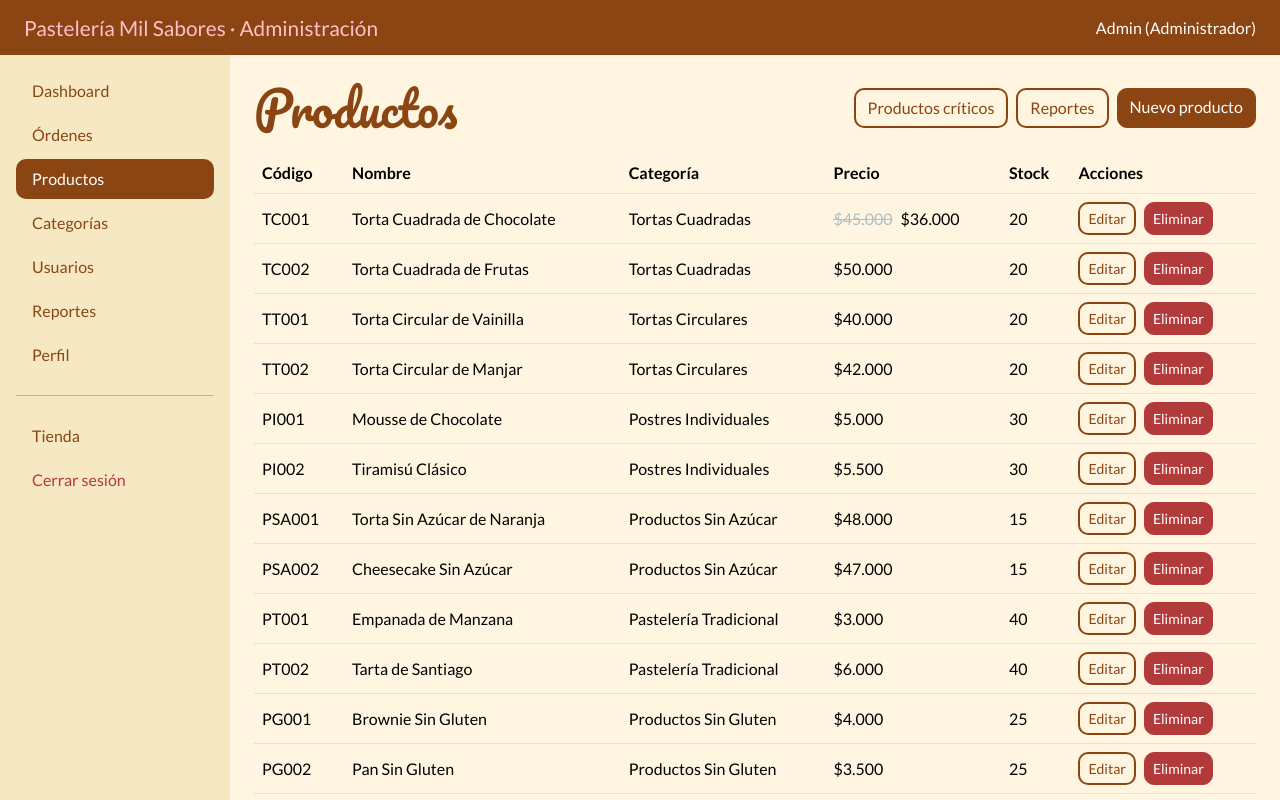
Scenario: Admin: productos › elimina un producto después de confirmar
Step 1. Click the button "Eliminar" in the row of "TC001" → x=1178, y=218, box [1144,202,1213,235]
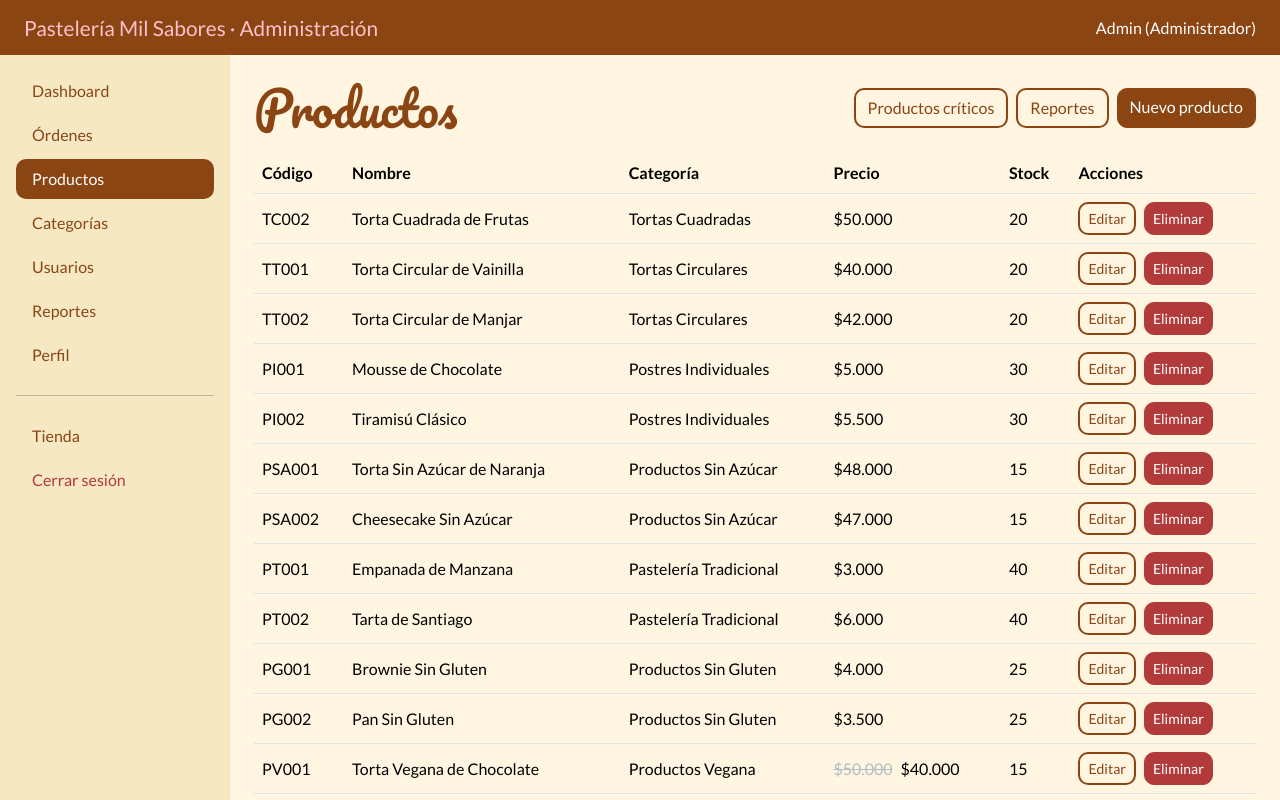
Check: the number of rows is 16
